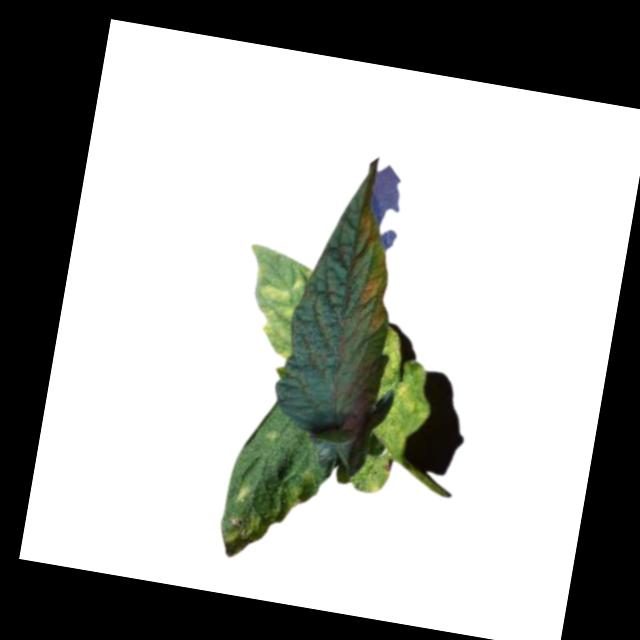Leaf_Mold: (215, 457, 318, 569), (363, 328, 442, 460), (247, 260, 310, 361), (348, 261, 392, 335), (352, 206, 381, 248)
